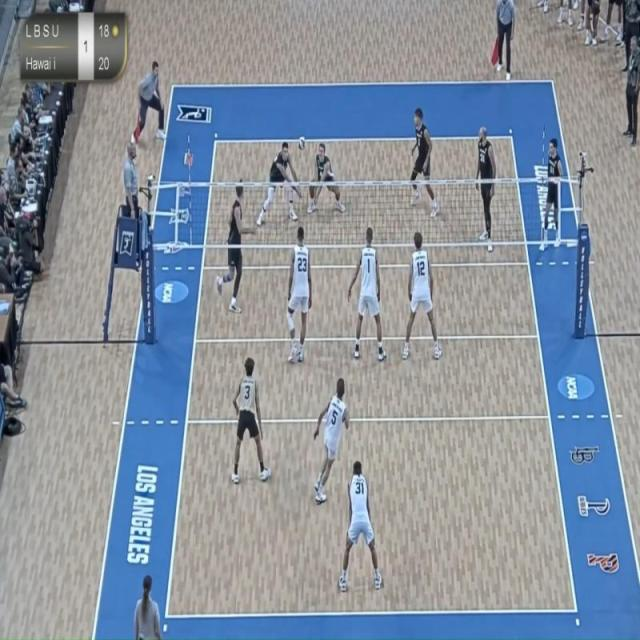volleyball: (296, 132, 310, 156)
